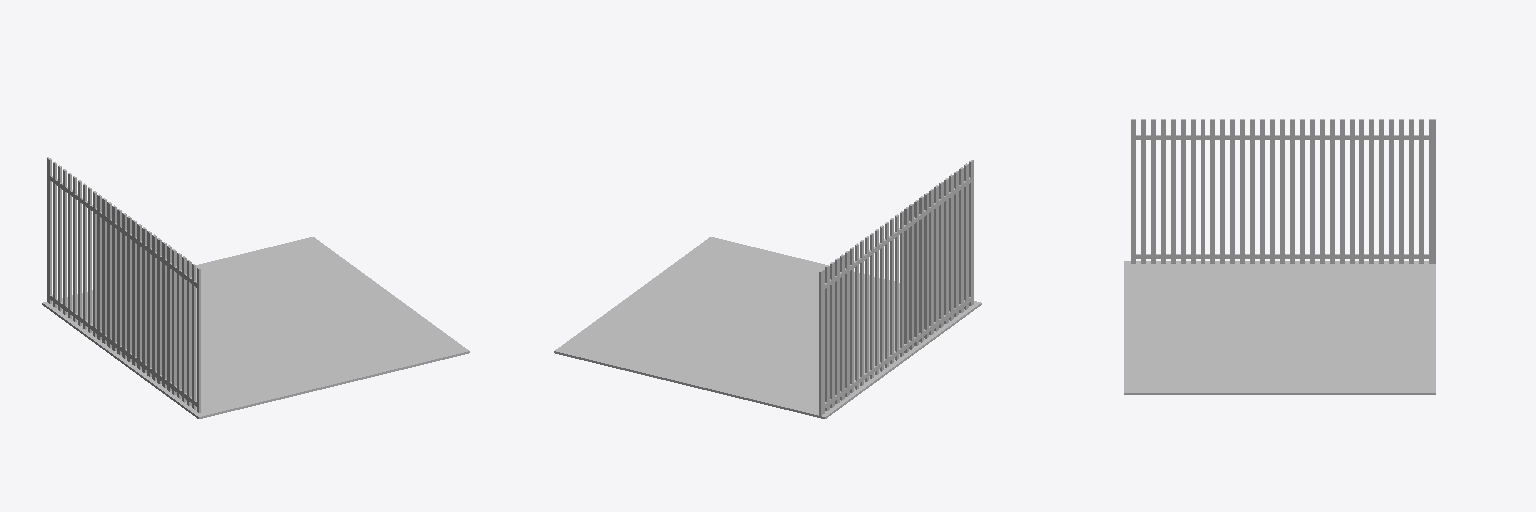
File: tile entrada instituto con valla.obj
3 renders of one model, left to right at view 1: azimuth 30°, elevation 25°; view 2: azimuth 150°, elevation 25°; view 3: azimuth 270°, elevation 25°, orthographic.
Parts seen in each view (by area): view 1: object 1; view 2: object 1; view 3: object 1.
Boxes of the visible parts, x1,y1,x2,y2 form: object 1: [42, 157, 469, 418]; object 1: [554, 160, 981, 418]; object 1: [1124, 119, 1435, 394].
Bounding box in the file's own units: 12.6 × 6.5 × 12.6.